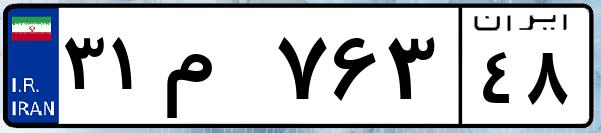1: (110, 28, 158, 98)
3: (385, 28, 445, 110), (57, 26, 110, 100)
4: (475, 38, 525, 113)
6: (330, 28, 385, 110)
7: (270, 28, 330, 110)
8: (525, 38, 570, 115)
م: (158, 20, 270, 120)
